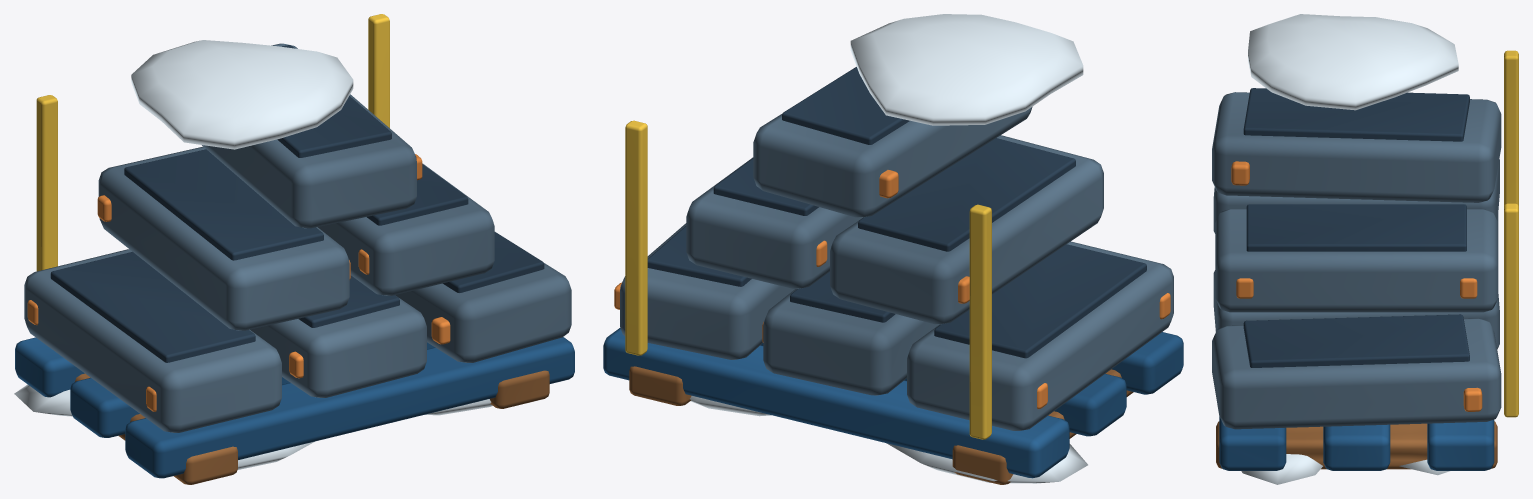
The model's file is metal_stack.glb.
3 views of the same model, side by side, from view 1: azimuth 30°, elevation 25°; view 2: azimuth 150°, elevation 25°; view 3: azimuth 270°, elevation 25° (orthographic). The views are drawn at different scales.
Visible parts, largest first — view 1: metal_stack; view 2: metal_stack; view 3: metal_stack.
Part boxes in pixels (left/top/right/bottom): metal_stack: left=14, top=14, right=574, bottom=484; metal_stack: left=603, top=14, right=1183, bottom=484; metal_stack: left=1212, top=14, right=1518, bottom=484.
Bounding box in the file's own units: 1.49 × 1.12 × 0.9322.
